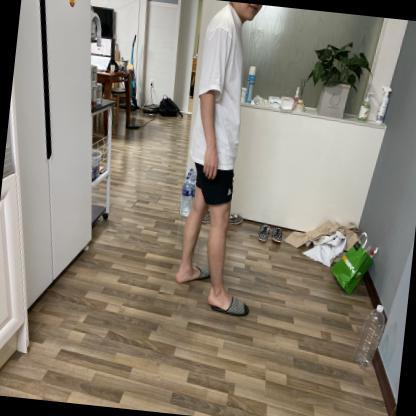no_safety-shoe: (199, 280, 258, 327), (169, 256, 215, 291)
